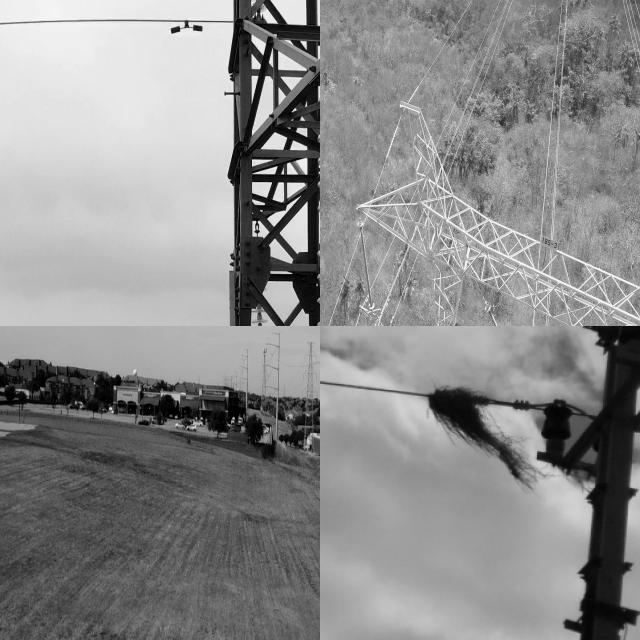杆塔: (344, 74, 640, 326), (507, 326, 640, 640), (216, 0, 320, 326), (294, 333, 320, 452), (259, 345, 269, 413)
植被遮挡: (424, 385, 546, 497)
正常电缆: (0, 4, 212, 39)
正常绝缘子: (351, 207, 383, 326), (540, 400, 574, 444), (482, 297, 507, 326)
